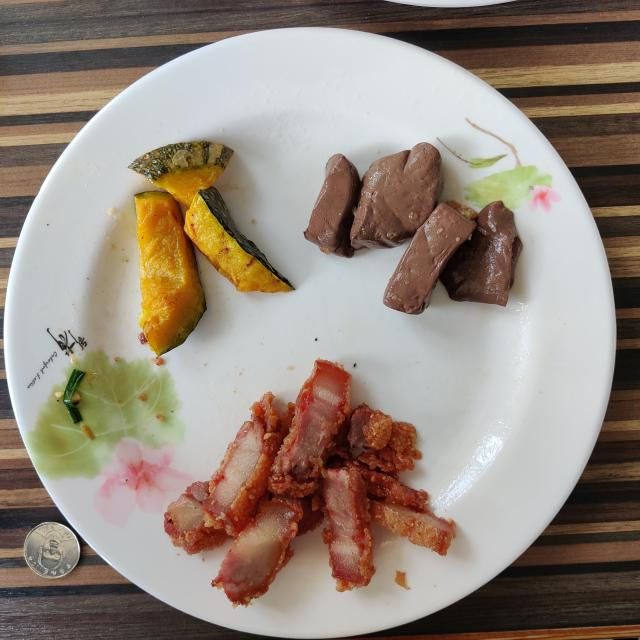coin: (24, 522, 80, 579)
pig blood curd: (305, 142, 521, 314)
pumpkin: (129, 141, 294, 355)
red grilled pork: (164, 360, 455, 606)
